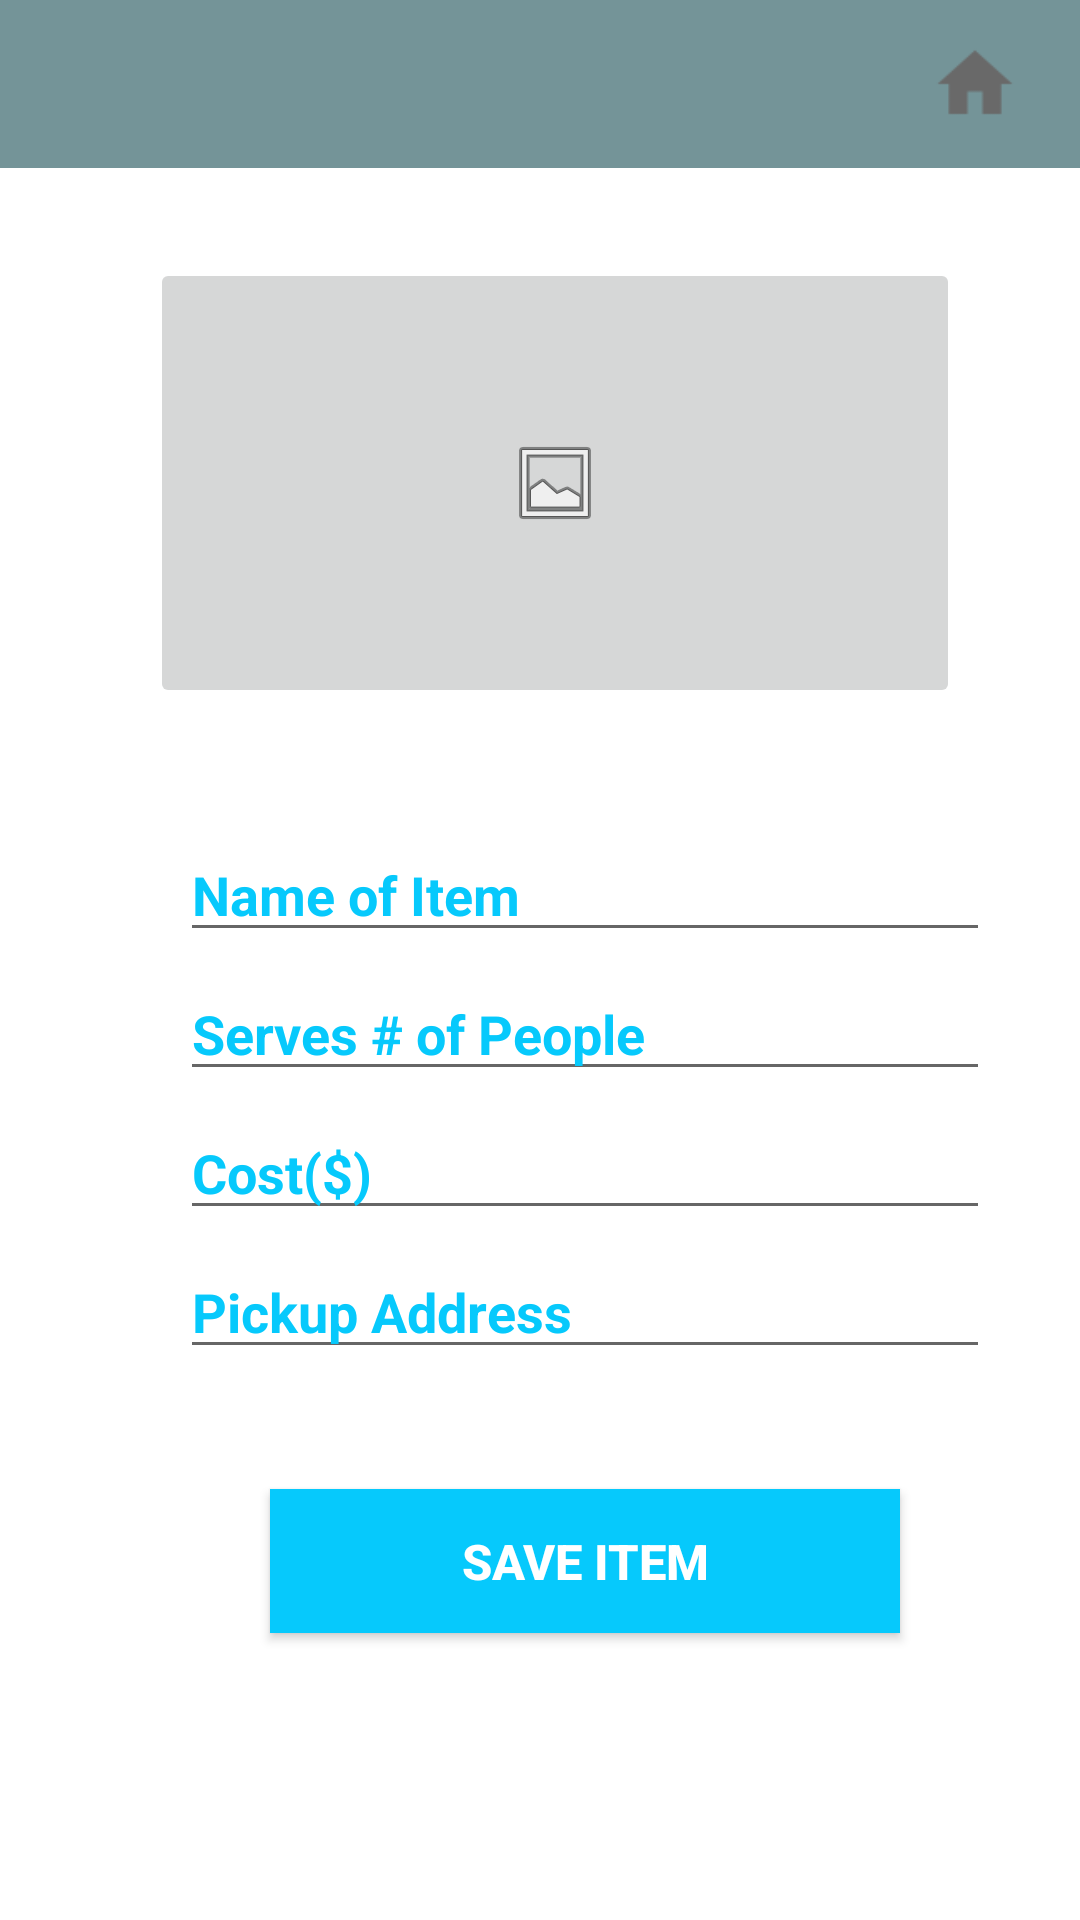

Icons on this 1080*1920 Android screen, each with the point to tap as (x=x, y=y):
home: (x=975, y=82)
